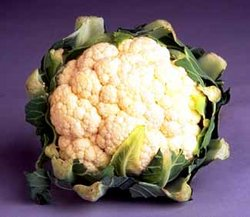cauliflower: (20, 14, 231, 207)
